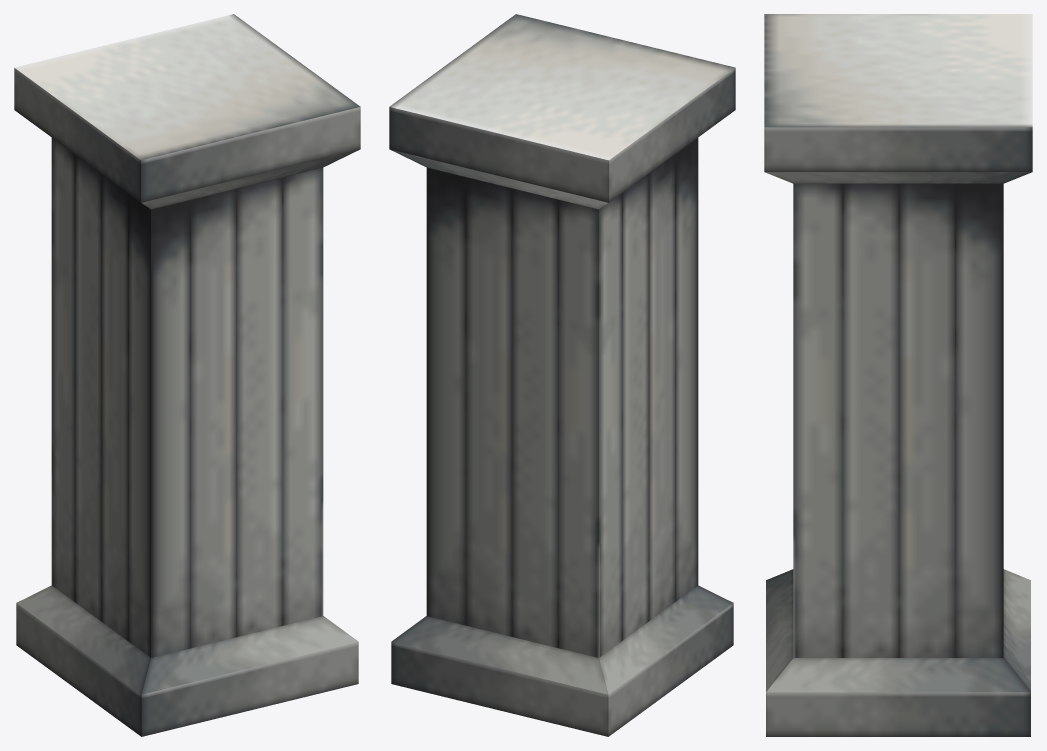
Rendered from Inside_Poly_Square_Pillar_01.obj.
3 renders of one model, left to right at view 1: azimuth 30°, elevation 25°; view 2: azimuth 150°, elevation 25°; view 3: azimuth 270°, elevation 25°, orthographic. The views are drawn at different scales.
Visible parts, largest first — view 1: Cube.001; view 2: Cube.001; view 3: Cube.001.
Boxes of the visible parts, <box> form: Cube.001: <box>14,14,360,736</box>; Cube.001: <box>389,14,735,736</box>; Cube.001: <box>764,14,1032,736</box>.
Size of the model in its own units: 1.08 by 2.7 by 1.08.
1 material, 1 textured.
